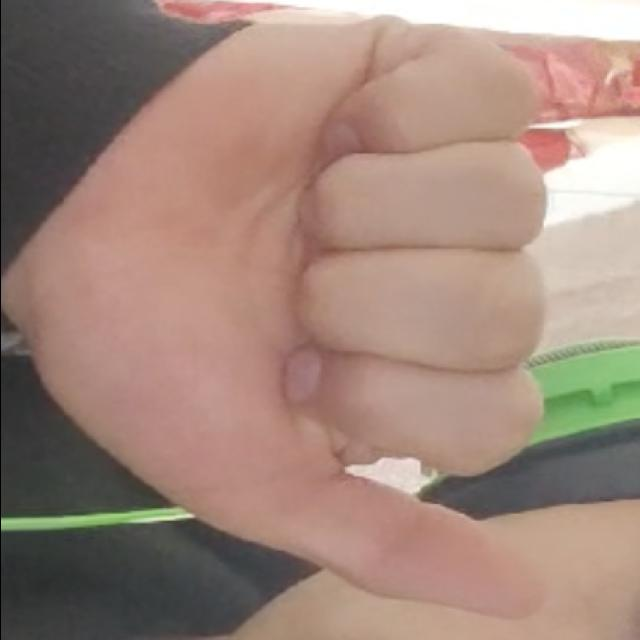A: (11, 8, 602, 626)
